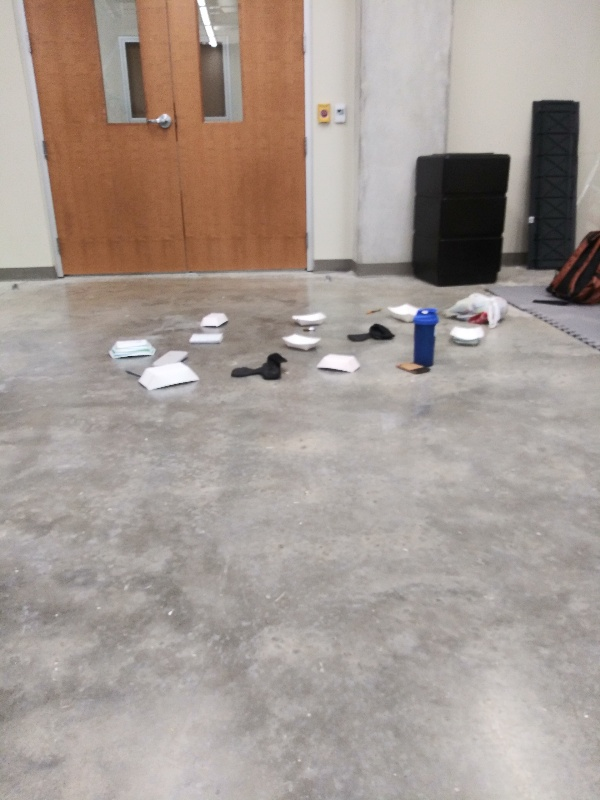plate: (136, 361, 203, 396), (102, 336, 160, 363), (313, 349, 364, 378), (278, 330, 329, 354), (382, 300, 419, 329), (447, 325, 487, 349), (290, 310, 331, 330), (196, 311, 233, 331)
